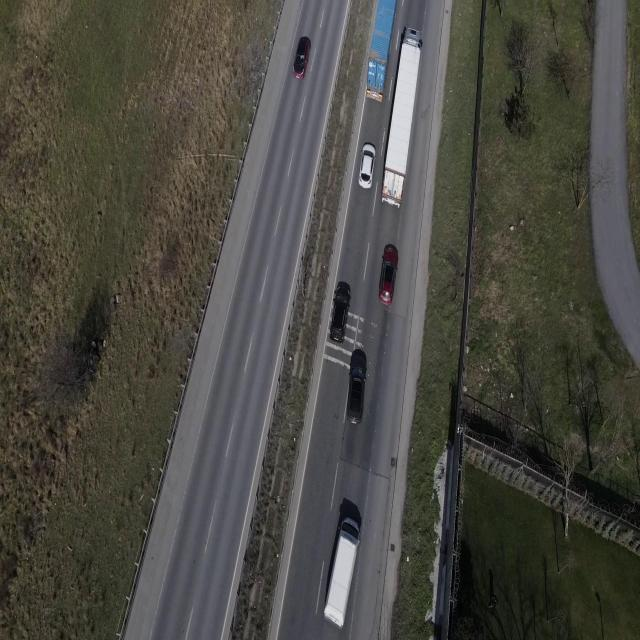p3rson: (488, 594, 498, 610)
